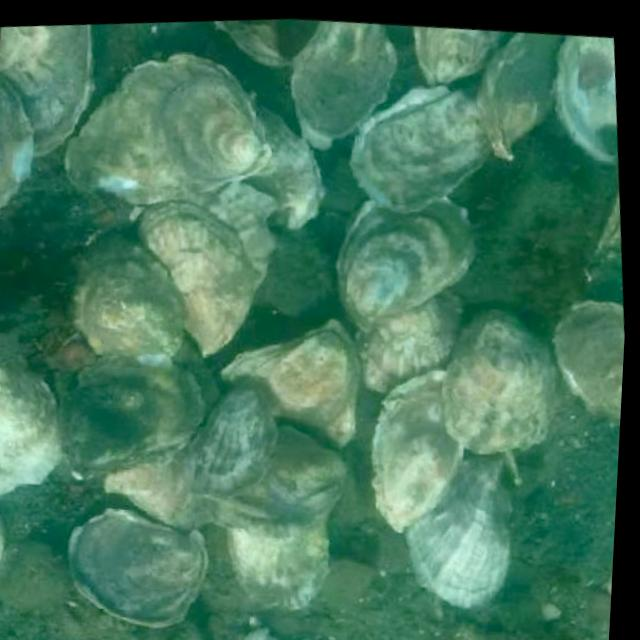Oyster-Closed: (474, 31, 563, 159), (598, 175, 621, 248)
Oyster-Indeterminate: (63, 55, 271, 203), (335, 193, 476, 329), (52, 354, 204, 479), (131, 199, 252, 356), (213, 318, 356, 450), (347, 84, 490, 207), (400, 448, 509, 607), (441, 301, 555, 452), (66, 504, 207, 625), (198, 422, 345, 536), (367, 368, 461, 529), (64, 236, 180, 356), (289, 19, 395, 147), (0, 24, 93, 154), (354, 287, 464, 393), (179, 380, 276, 498), (237, 100, 322, 227), (175, 180, 274, 288), (100, 437, 206, 529), (223, 518, 330, 607), (552, 298, 624, 422), (0, 368, 59, 492), (410, 24, 512, 82), (217, 18, 316, 64), (0, 71, 32, 205), (239, 627, 279, 640)
